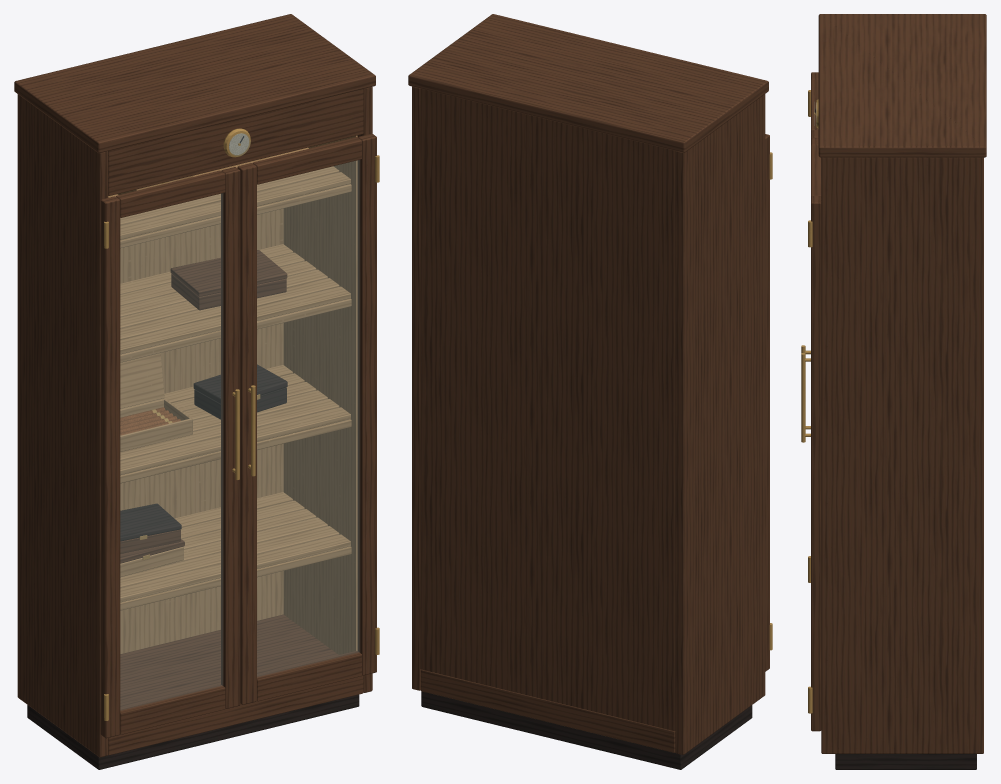
The model's file is cigar_humidor.glb.
3 views of the same model, side by side, from view 1: azimuth 30°, elevation 25°; view 2: azimuth 150°, elevation 25°; view 3: azimuth 270°, elevation 25° (orthographic).
Visible parts, largest first — view 1: carcass_wood_walnut_0, pane_r_glass_clear_0, pane_l_glass_clear_0, carcass_wood_walnut_2, carcass_wood_oak_9, carcass_wood_oak_7, carcass_wood_walnut_4, carcass_wood_walnut_5, door_l_wood_walnut_0, door_r_wood_walnut_1, door_l_wood_walnut_1, door_r_wood_walnut_0 (+36 smaller); view 2: carcass_wood_walnut_6, carcass_wood_walnut_0, carcass_wood_walnut_2, carcass_wood_walnut_4, carcass_wood_walnut_1, carcass_wood_ebony_3, door_l_wood_walnut_0; view 3: carcass_wood_walnut_1, carcass_wood_walnut_2, door_r_wood_walnut_1, carcass_wood_ebony_3, door_r_wood_walnut_3, door_r_brass_4.
Part boxes in pixels (bbox=[...]): carcass_wood_walnut_0: bbox=[17, 94, 108, 757]; pane_r_glass_clear_0: bbox=[257, 160, 359, 676]; pane_l_glass_clear_0: bbox=[120, 193, 222, 709]; carcass_wood_walnut_2: bbox=[14, 14, 375, 153]; carcass_wood_oak_9: bbox=[283, 135, 357, 654]; carcass_wood_oak_7: bbox=[120, 208, 283, 653]; carcass_wood_walnut_4: bbox=[108, 614, 363, 755]; carcass_wood_walnut_5: bbox=[108, 89, 363, 195]; door_l_wood_walnut_0: bbox=[100, 196, 120, 738]; door_r_wood_walnut_1: bbox=[357, 133, 376, 675]; door_l_wood_walnut_1: bbox=[221, 167, 240, 708]; door_r_wood_walnut_0: bbox=[237, 163, 256, 704]; carcass_wood_walnut_6: bbox=[420, 88, 675, 731]; carcass_wood_walnut_0: bbox=[675, 94, 765, 754]; carcass_wood_walnut_2: bbox=[408, 14, 768, 152]; carcass_wood_walnut_4: bbox=[420, 669, 675, 752]; carcass_wood_walnut_1: bbox=[412, 86, 420, 690]; carcass_wood_ebony_3: bbox=[421, 691, 752, 769]; door_l_wood_walnut_0: bbox=[765, 134, 769, 671]; carcass_wood_walnut_1: bbox=[821, 157, 983, 753]; carcass_wood_walnut_2: bbox=[818, 14, 986, 157]; door_r_wood_walnut_1: bbox=[811, 196, 821, 731]; carcass_wood_ebony_3: bbox=[835, 754, 976, 769]; door_r_wood_walnut_3: bbox=[811, 145, 821, 196]; door_r_brass_4: bbox=[801, 353, 805, 442].
Size of what is drawn, in the model's own units: 0.916 by 2 by 0.5365.
13 materials, 9 textured.
